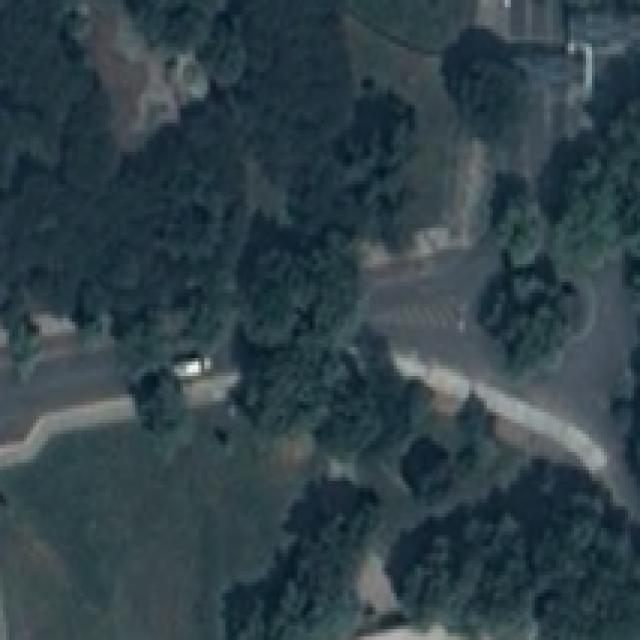trees: (479, 55, 640, 373), (235, 218, 428, 462), (389, 460, 640, 640), (91, 95, 247, 375), (1, 1, 118, 326), (217, 1, 356, 187), (223, 486, 380, 640), (443, 26, 530, 144), (124, 1, 218, 53), (632, 362, 640, 500), (632, 374, 640, 491), (638, 264, 640, 291)
